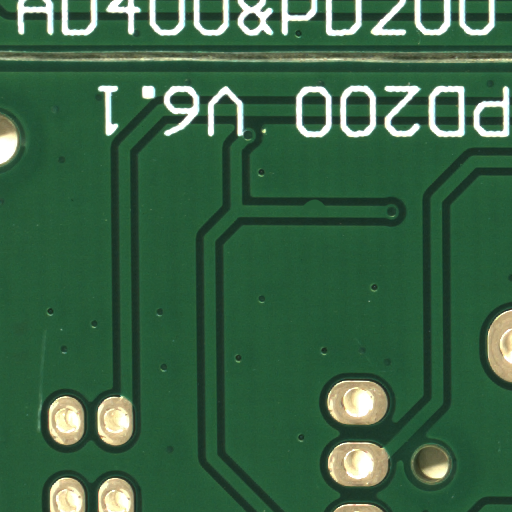Spur: (313, 201, 334, 209)
